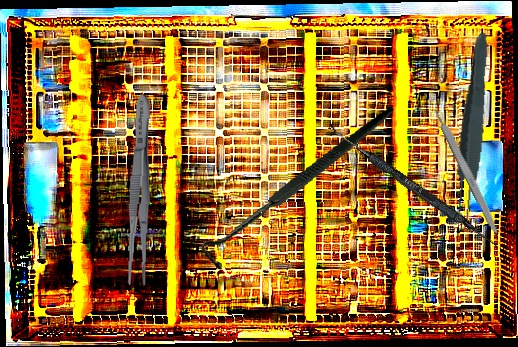Dressing Forceps: (124, 92, 156, 288)
Hook Surgical: (183, 106, 416, 273)
Scalpel Handle: (431, 105, 504, 239)
Spatula Surgical: (323, 123, 502, 249)
Tissue Forceps: (450, 31, 494, 225)
